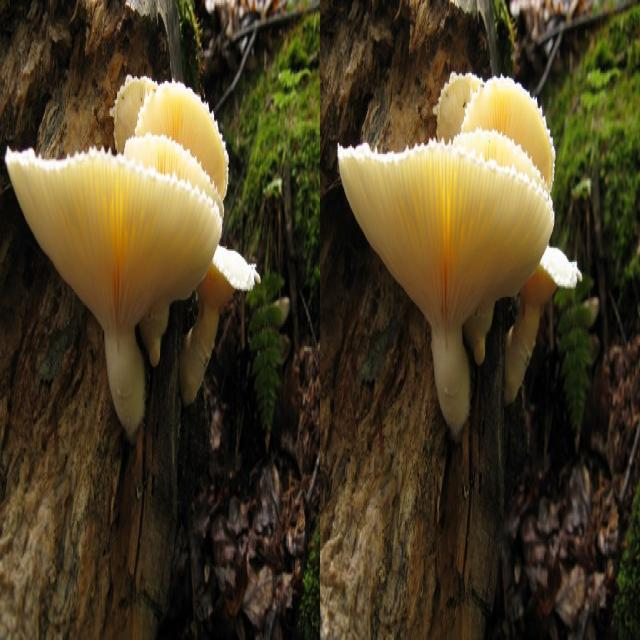Mushroom: (326, 52, 577, 437), (4, 69, 262, 434)
